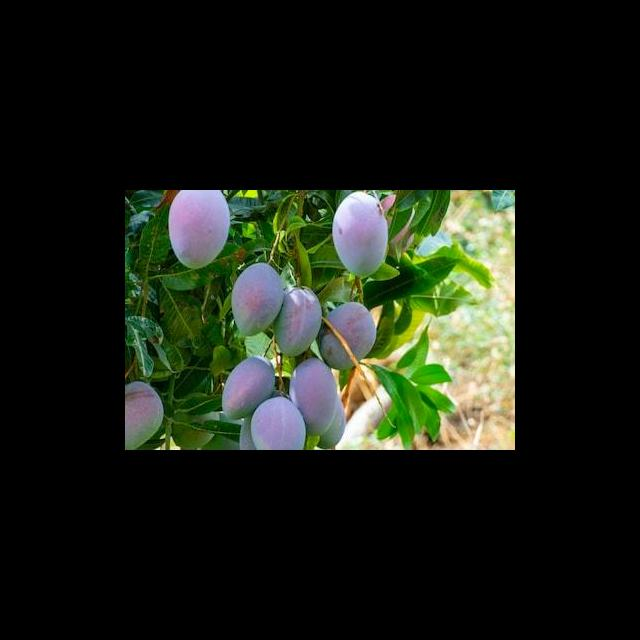mango: (168, 190, 229, 269), (332, 192, 388, 277), (232, 263, 283, 335), (290, 358, 337, 434), (274, 288, 322, 356), (222, 357, 274, 418), (251, 397, 306, 449), (328, 303, 376, 359), (125, 382, 164, 449), (318, 397, 345, 449), (321, 327, 354, 369)
